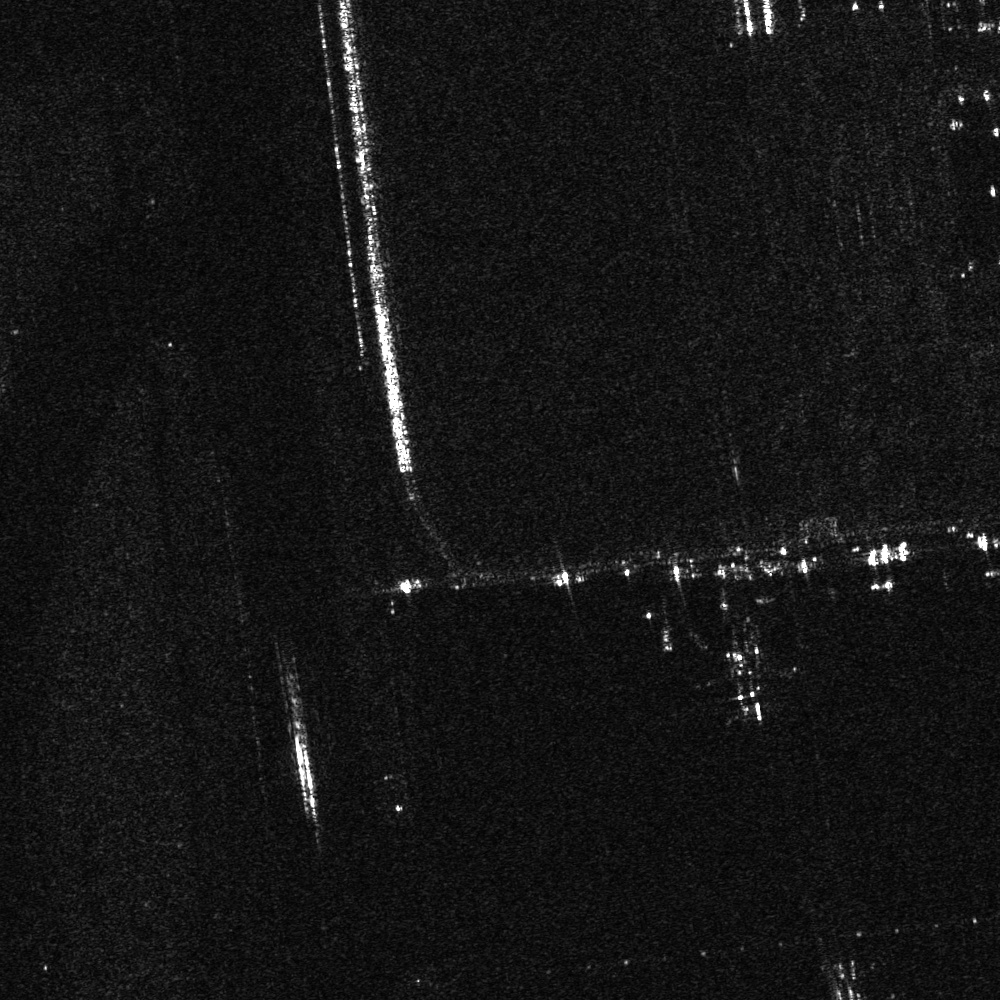A320/321: (691, 616, 799, 729)
